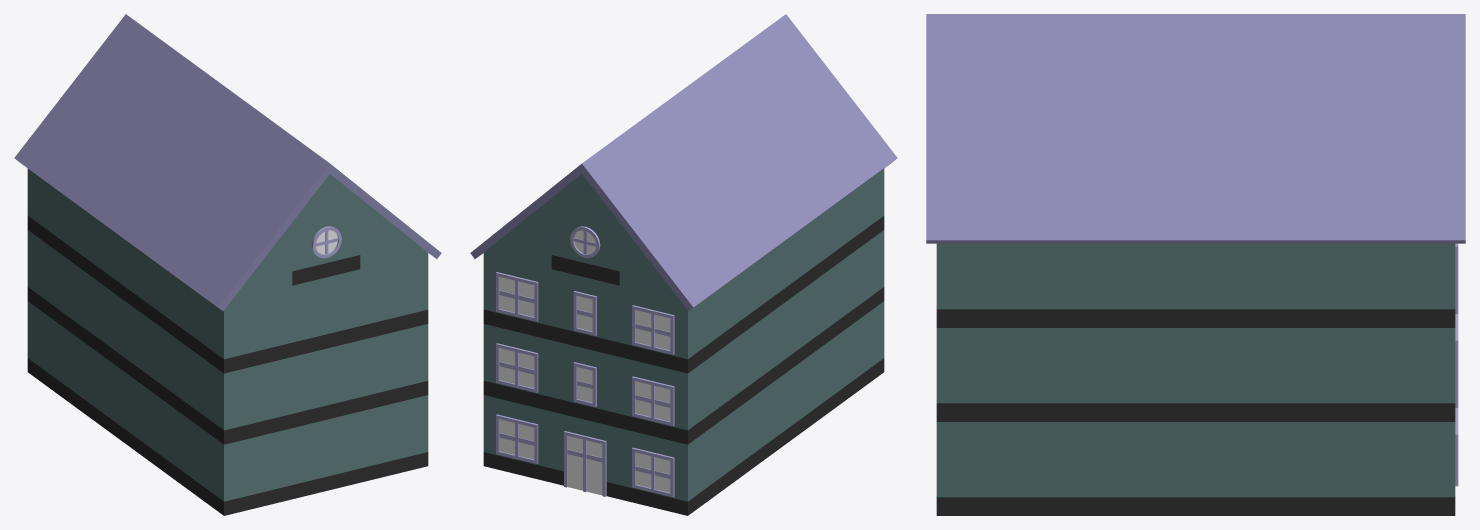
File: generic_house_1.fbx
3 renders of one model, left to right at view 1: azimuth 30°, elevation 25°; view 2: azimuth 150°, elevation 25°; view 3: azimuth 270°, elevation 25°, orthographic. The views are drawn at different scales.
Parts seen in each view (by area): view 1: mergedBlocks; view 2: mergedBlocks; view 3: mergedBlocks.
Boxes of the visible parts, box(x1,y1,x2,y2) form: mergedBlocks: box(14, 14, 441, 515); mergedBlocks: box(470, 14, 897, 515); mergedBlocks: box(926, 14, 1465, 515).
Bounding box in the file's own units: 32.83 × 46.41 × 52.
